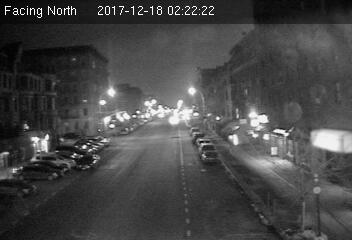car: (76, 153, 101, 170), (199, 150, 220, 164)
